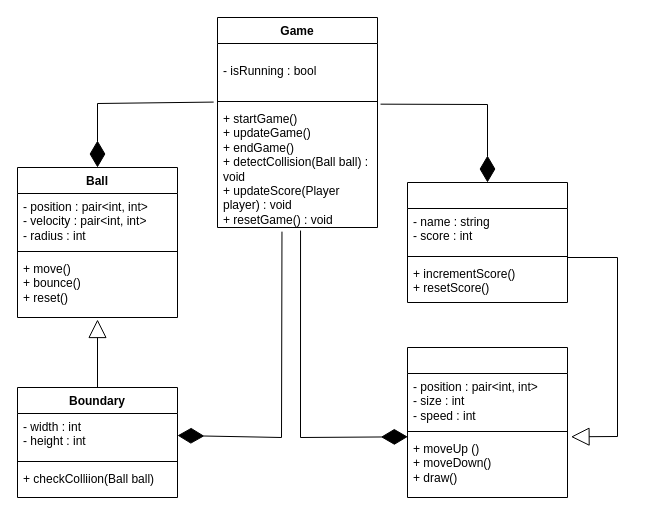
The diagram is 653 pixels wide and 518 high, and some of its shapes have lost their labels. The box of each missing label's shape, as (x1, y1, x2, y2) in pixels:
Paddle: (406, 346, 568, 498)
Players: (406, 182, 568, 302)
